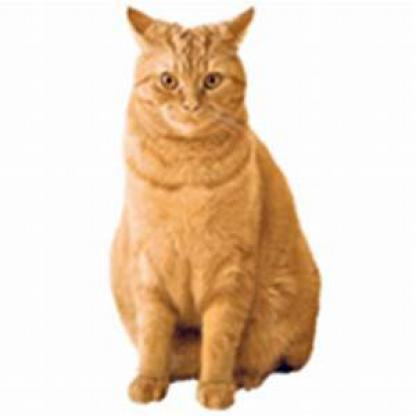cat: (111, 7, 320, 410)
